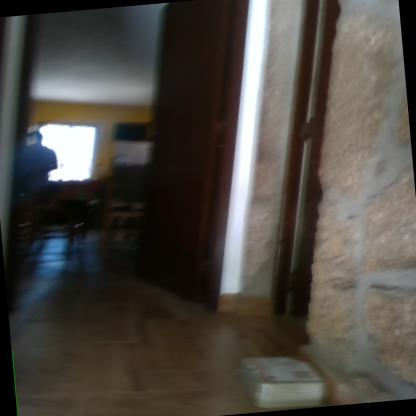open: (0, 0, 238, 333)
